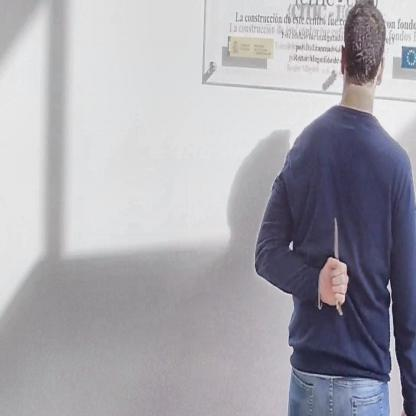knife: (328, 209, 350, 321)
